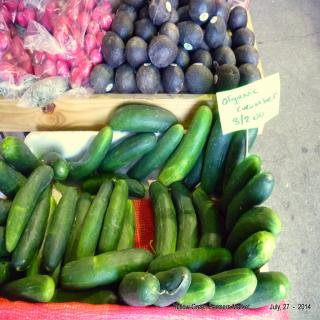Cucumber: (0, 104, 289, 308), (4, 163, 53, 252), (162, 113, 212, 187)
